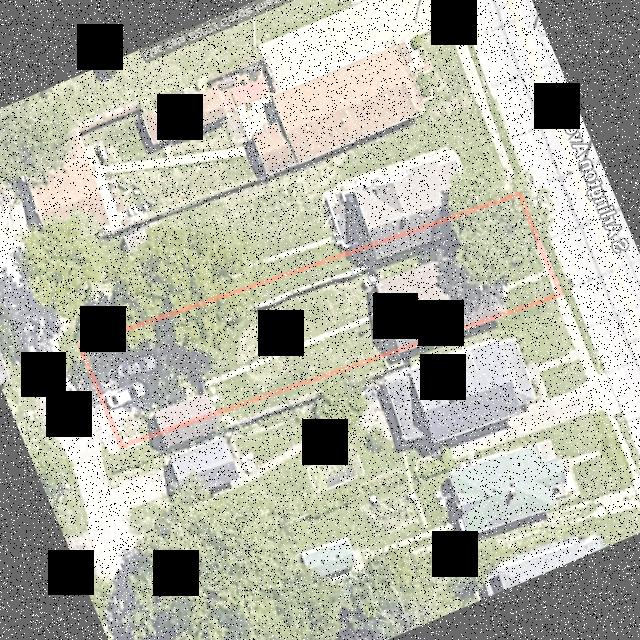Driveway: (94, 353, 204, 441)
Extra Driveway: (74, 376, 120, 454)
Extra Lawn: (522, 188, 572, 295), (59, 344, 89, 384)
House: (375, 244, 506, 346)
Other: (372, 211, 479, 259), (154, 392, 214, 429)
Sidewalk: (203, 309, 385, 388), (499, 267, 549, 299)
